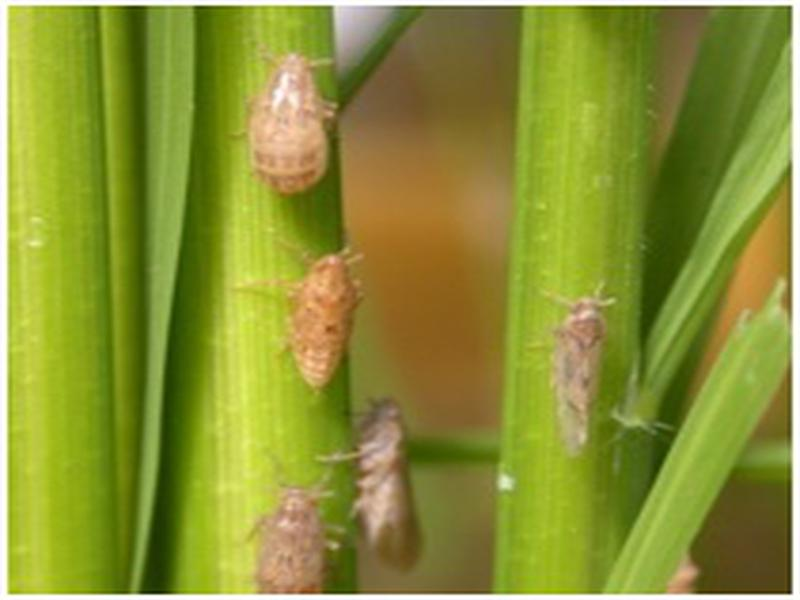White_backed_plant_hopper: (528, 285, 617, 465), (240, 48, 337, 208), (357, 402, 433, 567), (277, 248, 357, 401), (247, 484, 328, 589)
